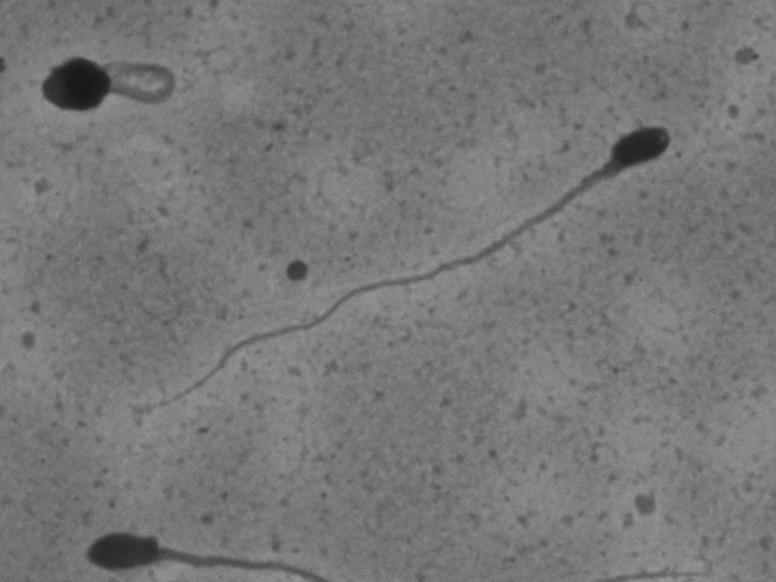Abnormal: (136, 116, 687, 420), (18, 40, 224, 136)
